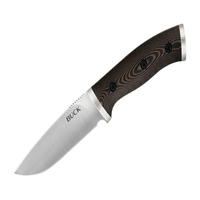knife: (12, 24, 186, 178)
